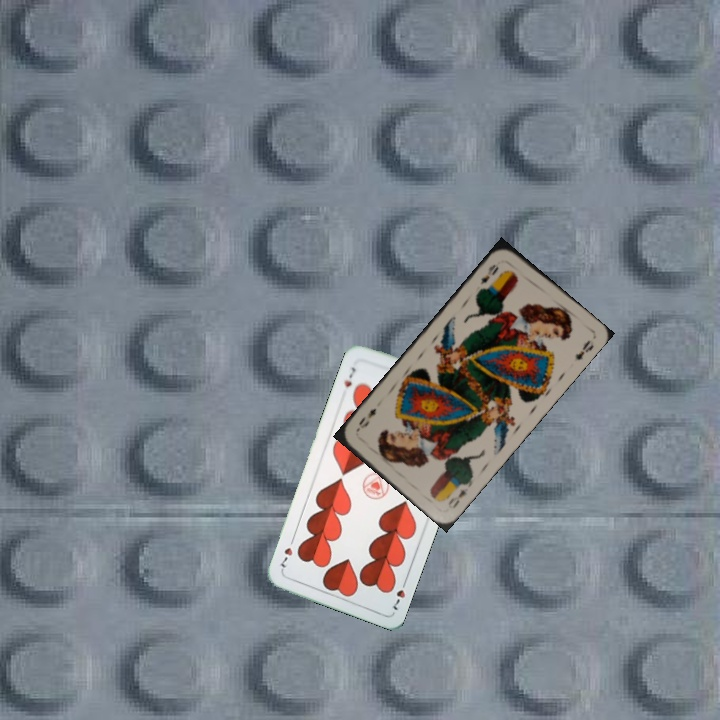EO: (442, 477, 474, 512), (476, 260, 501, 288)
H7: (389, 575, 410, 613), (340, 363, 359, 390)
